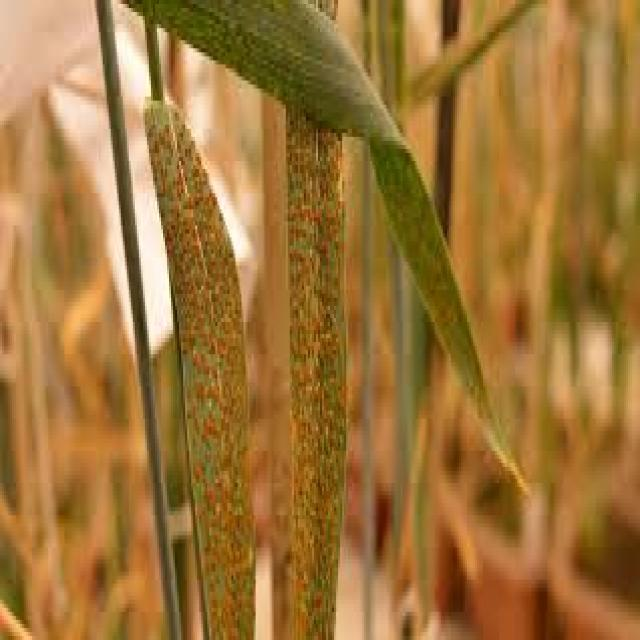leaf rust: (141, 100, 264, 640), (285, 108, 348, 640)
